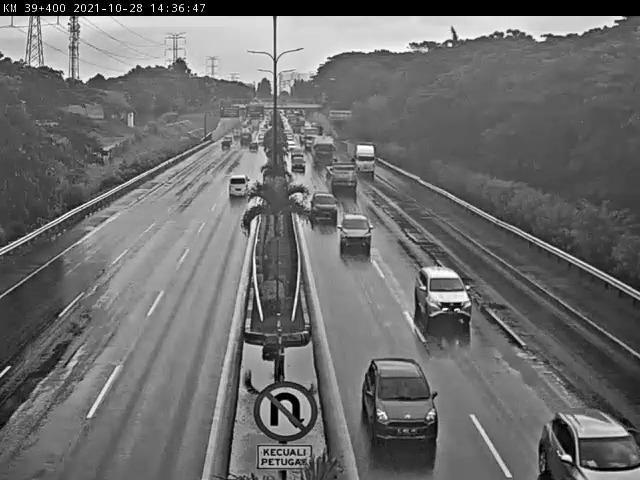big truck: (349, 144, 378, 177), (326, 162, 356, 187)
car: (545, 391, 638, 480), (356, 355, 435, 440), (421, 260, 465, 325), (223, 183, 249, 209), (306, 188, 338, 209), (349, 219, 366, 250), (289, 151, 307, 172)
